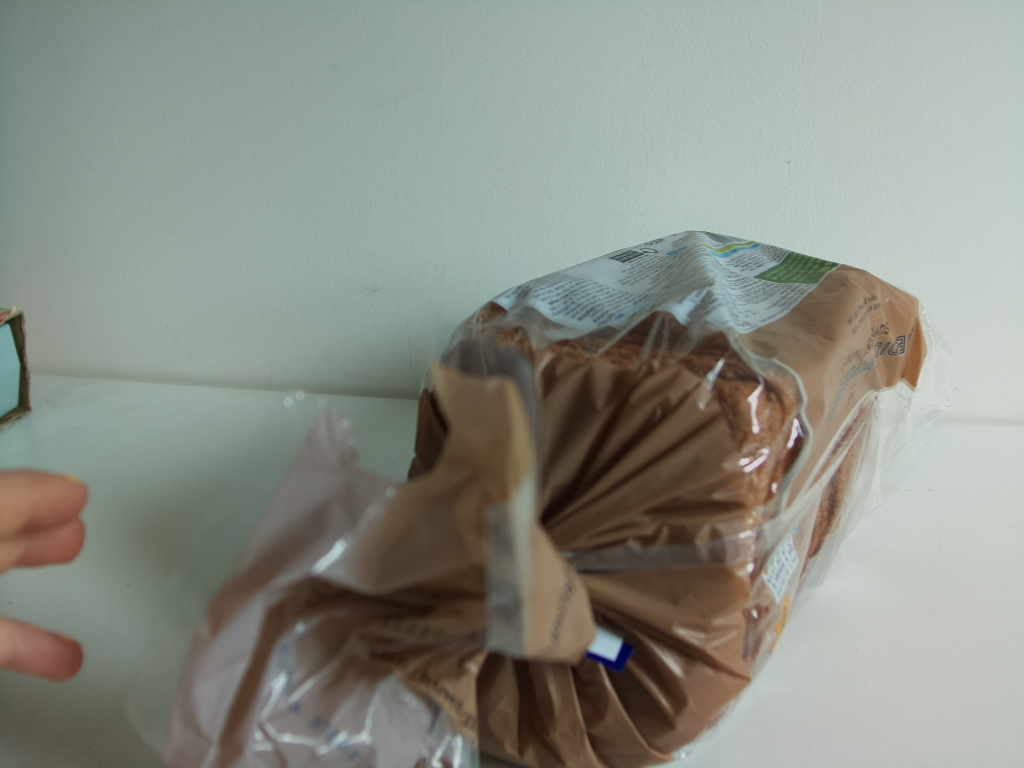bread: (40, 226, 926, 766)
